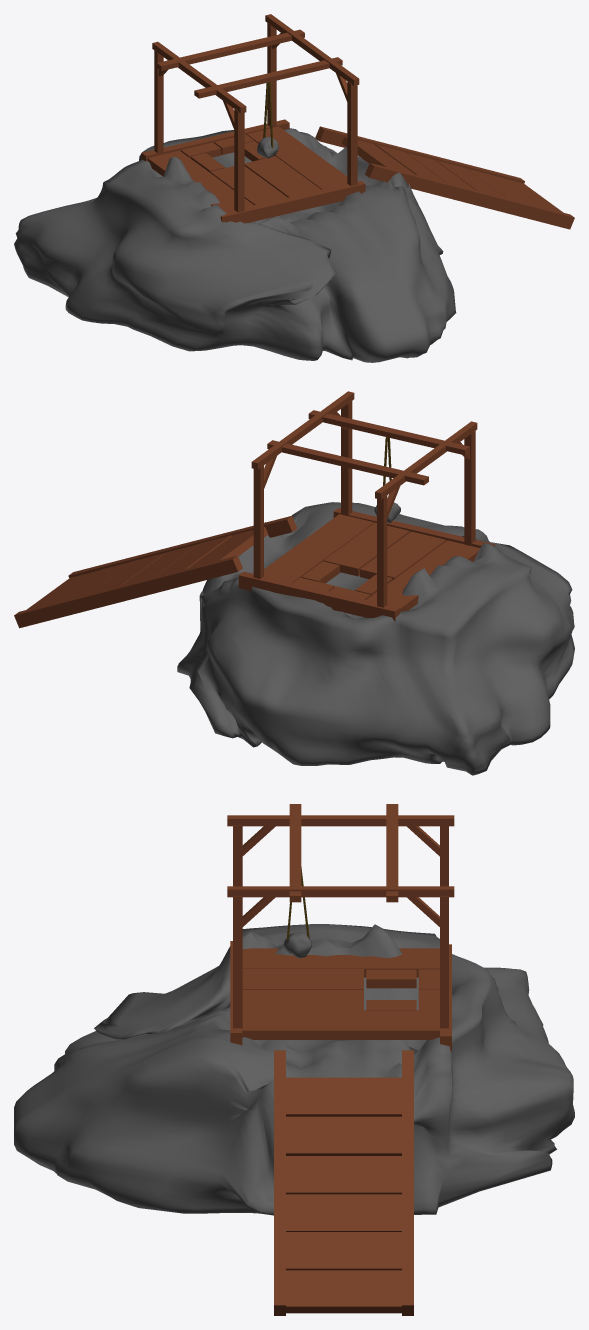
Rendered from Quarry.fbx.
3 views of the same model, one above another, from view 1: azimuth 30°, elevation 25°; view 2: azimuth 150°, elevation 25°; view 3: azimuth 270°, elevation 25° (orthographic). The views are drawn at different scales.
Parts seen in each view (by area): view 1: Quarry; view 2: Quarry; view 3: Quarry.
Part boxes in pixels (left/top/right/bottom): Quarry: left=14, top=14, right=574, bottom=362; Quarry: left=14, top=391, right=574, bottom=775; Quarry: left=14, top=804, right=574, bottom=1315.
Bounding box in the file's own units: 8331 × 3821 × 6739.
